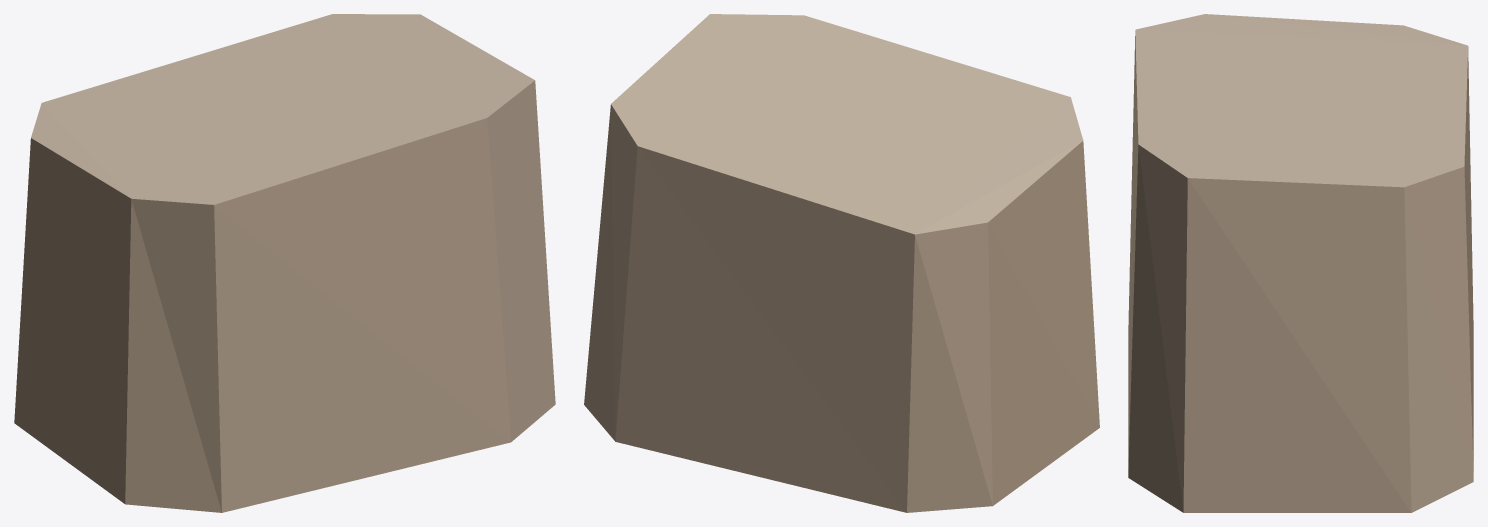
File: raw_stone.glb
3 views of the same model, side by side, from view 1: azimuth 30°, elevation 25°; view 2: azimuth 150°, elevation 25°; view 3: azimuth 270°, elevation 25° (orthographic). The views are drawn at different scales.
Parts seen in each view (by area): view 1: Stone; view 2: Stone; view 3: Stone.
Part boxes in pixels (x1=…): Stone: x1=14, y1=14, x2=555, y2=512; Stone: x1=584, y1=14, x2=1099, y2=512; Stone: x1=1128, y1=14, x2=1473, y2=512.
Bounding box in the file's own units: 0.4331 × 0.3183 × 0.3057.
